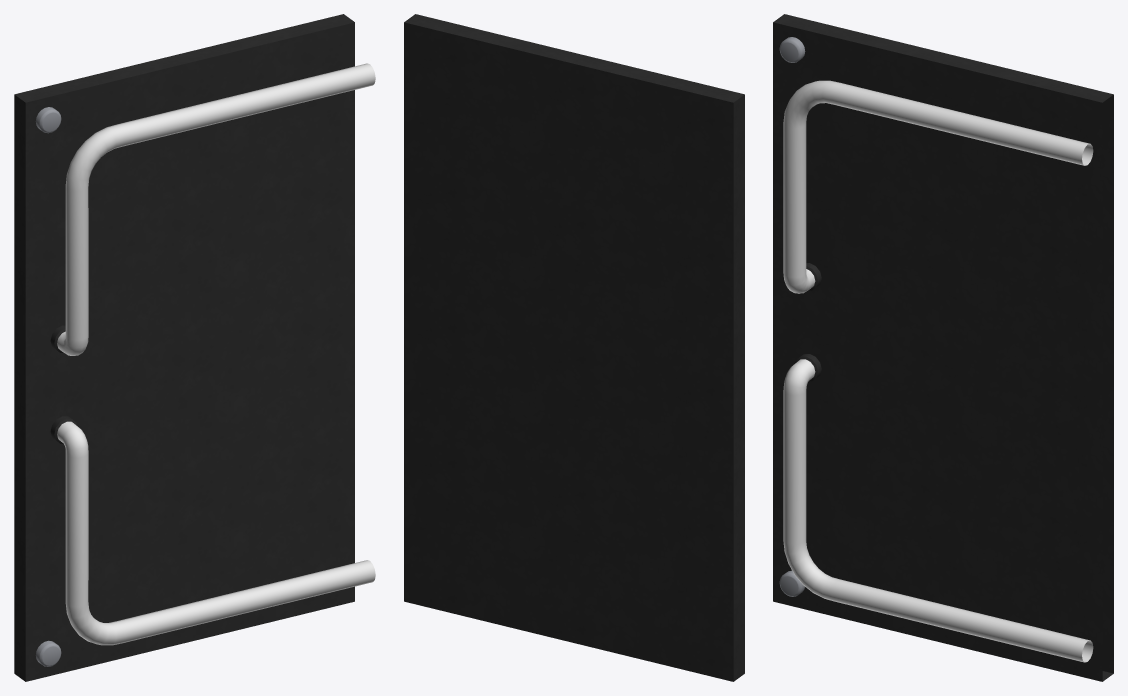
File: LettersNeon01Panel1.FBX
The picture shows the model from 3 angles, left to right: view 1: azimuth 30°, elevation 25°; view 2: azimuth 150°, elevation 25°; view 3: azimuth 330°, elevation 25°; orthographic projection.
Visible parts, largest first — view 1: LettersNeon01Panel1; view 2: LettersNeon01Panel1; view 3: LettersNeon01Panel1.
Part boxes in pixels (box(x1,y1,x2,y2)): LettersNeon01Panel1: box(14, 14, 375, 681); LettersNeon01Panel1: box(404, 14, 744, 681); LettersNeon01Panel1: box(773, 14, 1113, 681).
Size of what is drawn, in the model's own units: 0.5 by 0.84 by 0.084.
